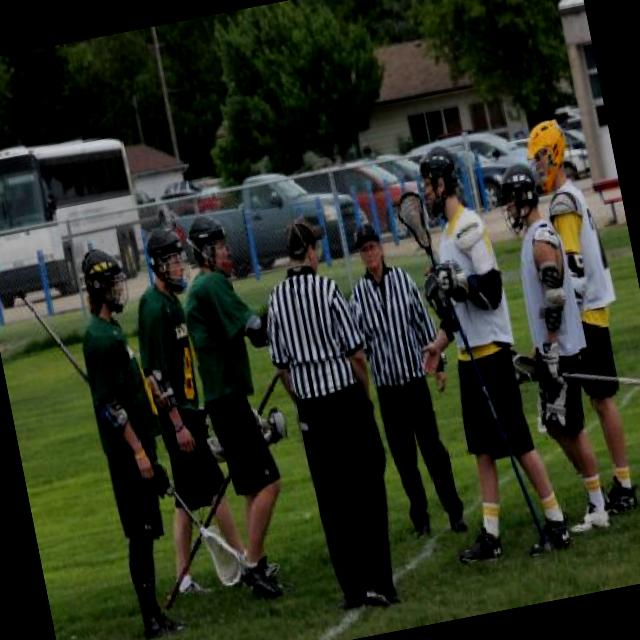Person: (411, 154, 571, 576), (247, 212, 413, 610), (113, 217, 280, 598), (168, 207, 324, 604), (472, 159, 620, 542), (63, 244, 202, 640), (519, 108, 640, 516), (331, 213, 478, 544)
